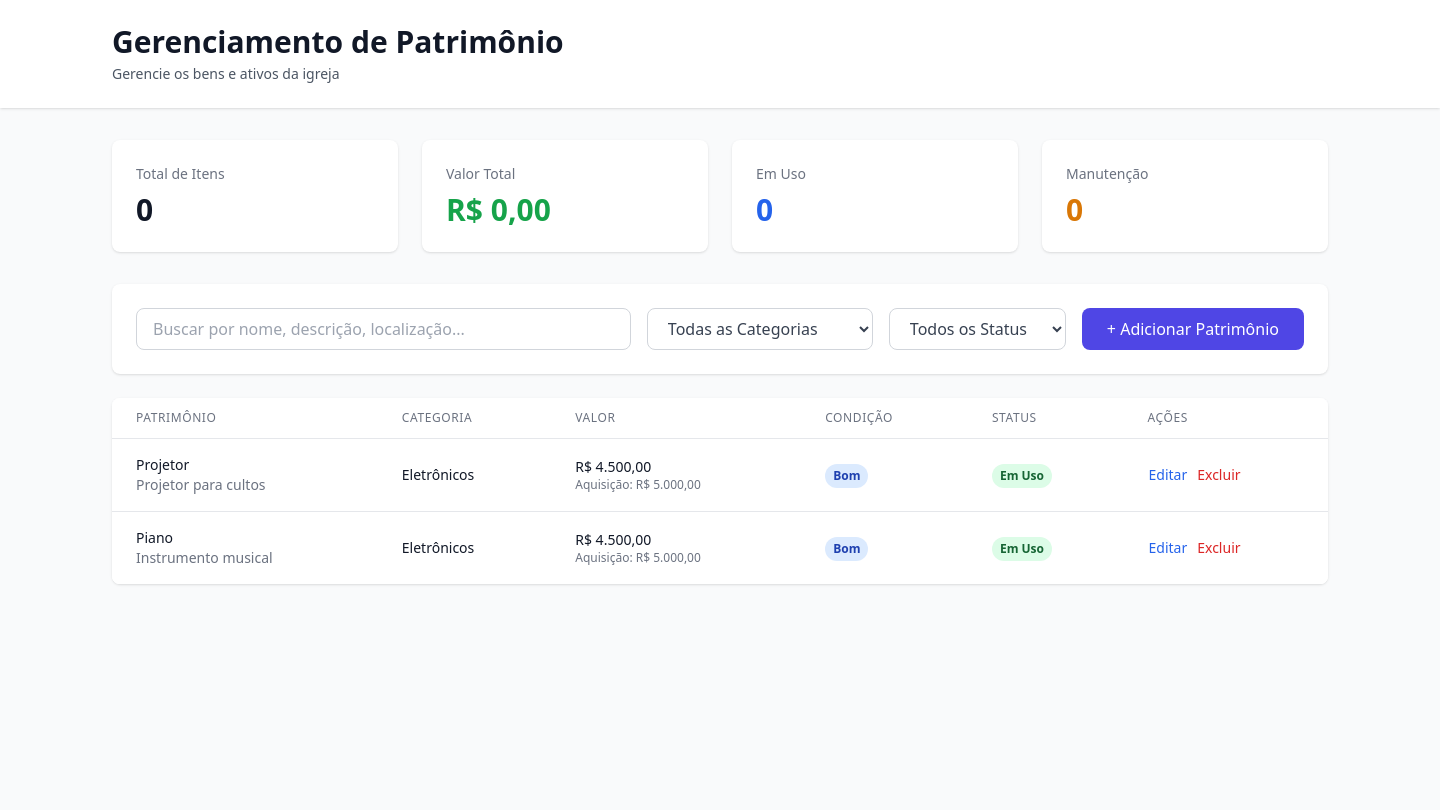
Scenario: AssetsManagementPage › Search and Filtering › should filter assets by search term (location)
expect the text "Projetor" is shown: met, box [136,455,189,474]
Step 1. Type "Principal" into the field with placeholder "Buscar por nome, descrição, localização..." → x=383, y=329, box [136,308,631,350]
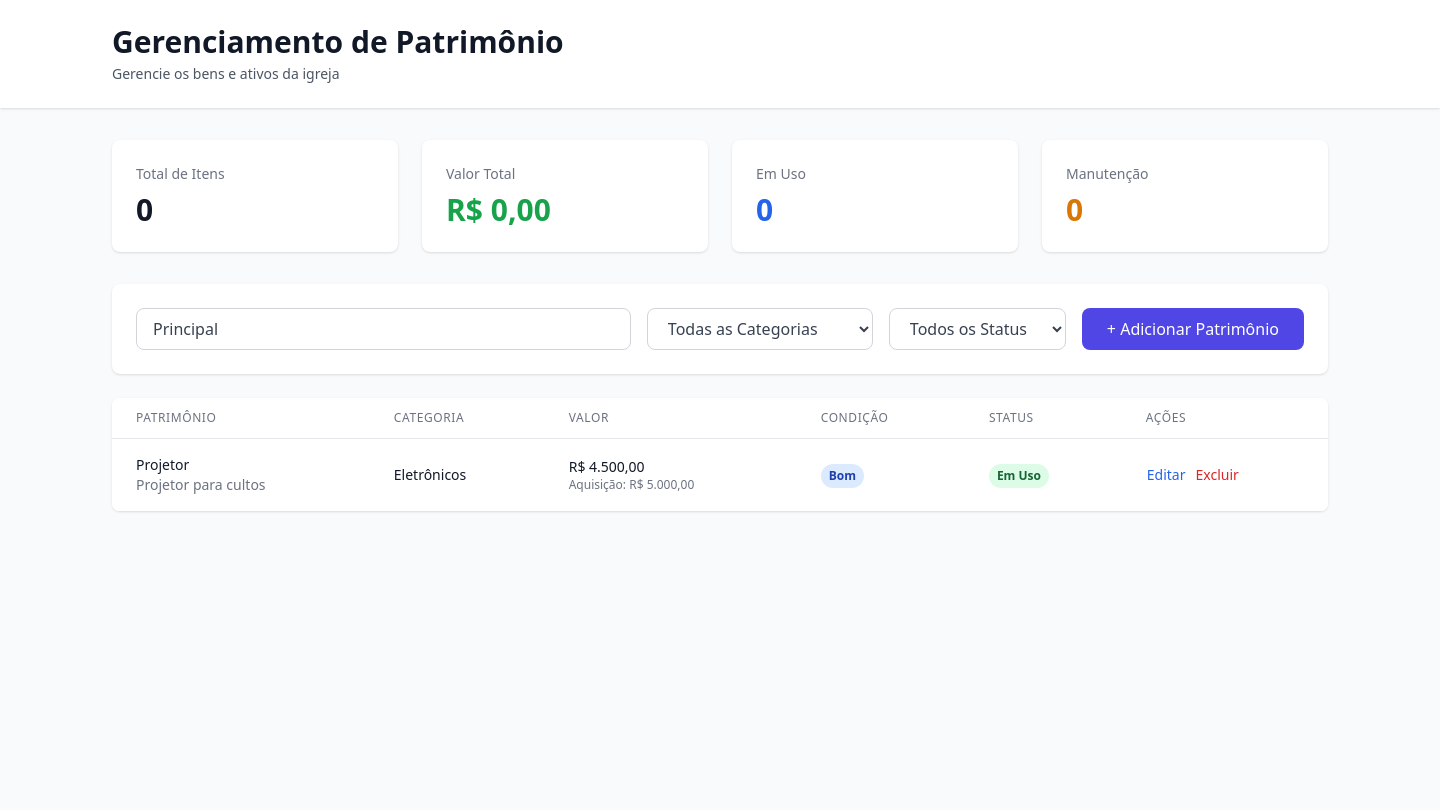
expect the text "Projetor" is shown: met, box [136,455,189,474]
expect the text "Piano" is gone: met
